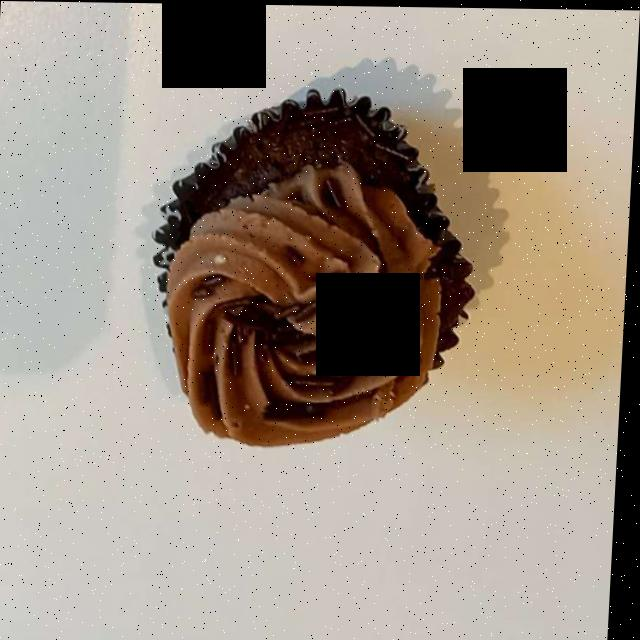milk-chocolate: (243, 279, 320, 342)
muffin: (167, 98, 470, 446)
